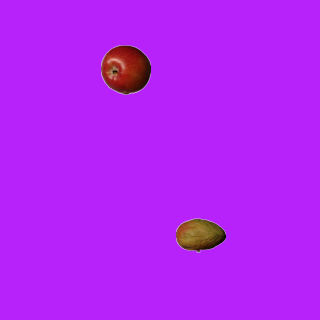Apple Braeburn: (100, 44, 150, 94)
Papaya: (175, 210, 225, 260)
